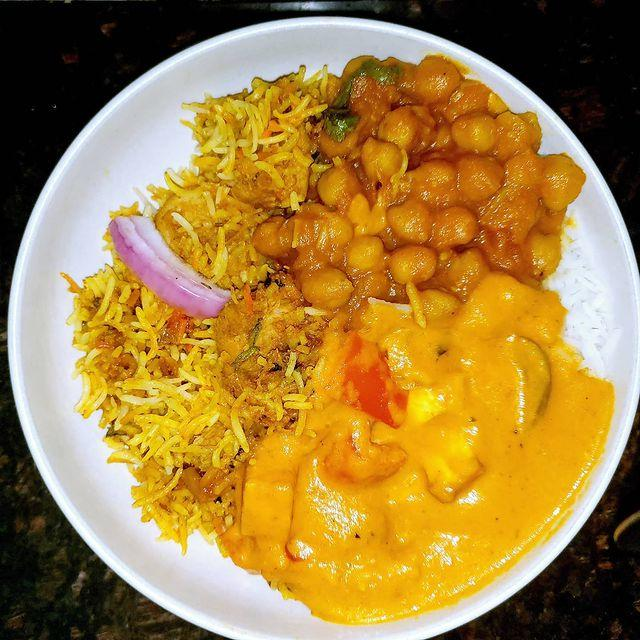Chole: (310, 54, 553, 292)
